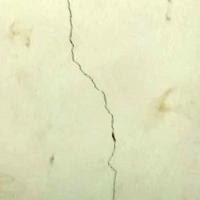crack: (42, 0, 130, 199)
